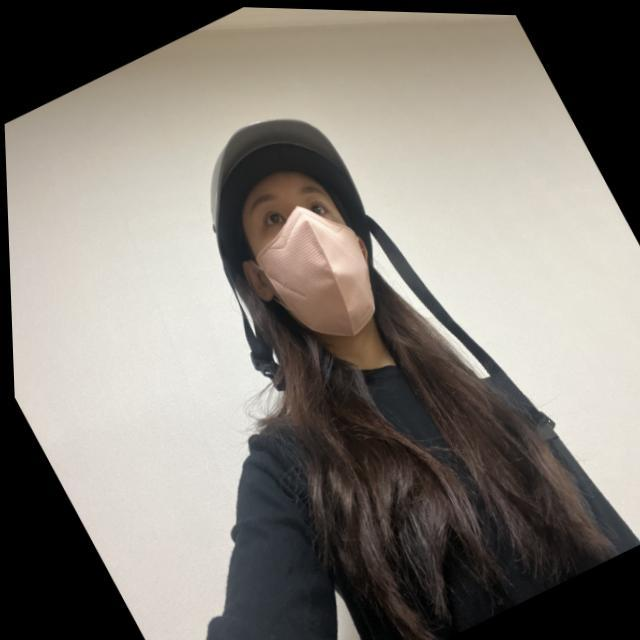Helmet: (199, 99, 403, 352)
